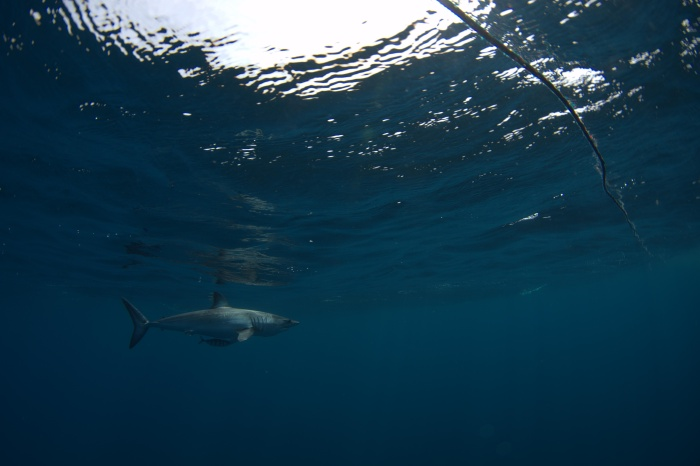Mako: (112, 286, 304, 357)
